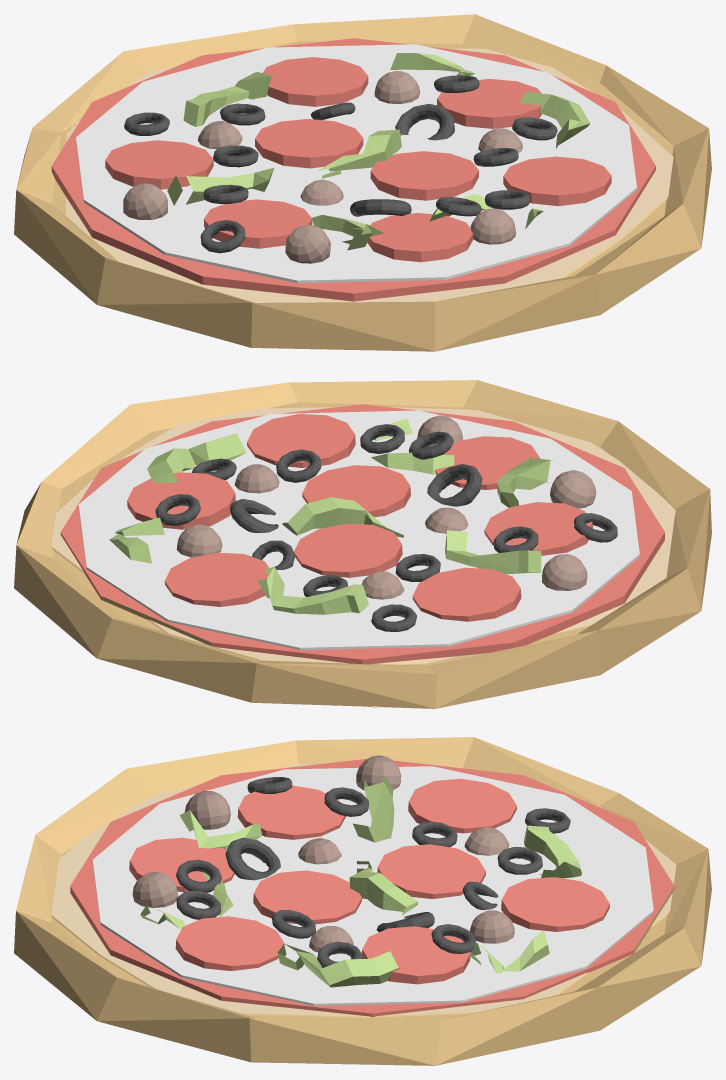
Rendered from pizza.gltf.
3 renders of one model, top to bottom at view 1: azimuth 30°, elevation 25°; view 2: azimuth 150°, elevation 25°; view 3: azimuth 270°, elevation 25°, orthographic.
Parts seen in each view (by area): view 1: Node; view 2: Node; view 3: Node.
Part boxes in pixels (x1,y1,x2,y2): Node: (14, 14, 711, 351); Node: (14, 380, 711, 708); Node: (14, 737, 711, 1065).
Bounding box in the file's own units: 0.4504 × 0.0517 × 0.4504.
